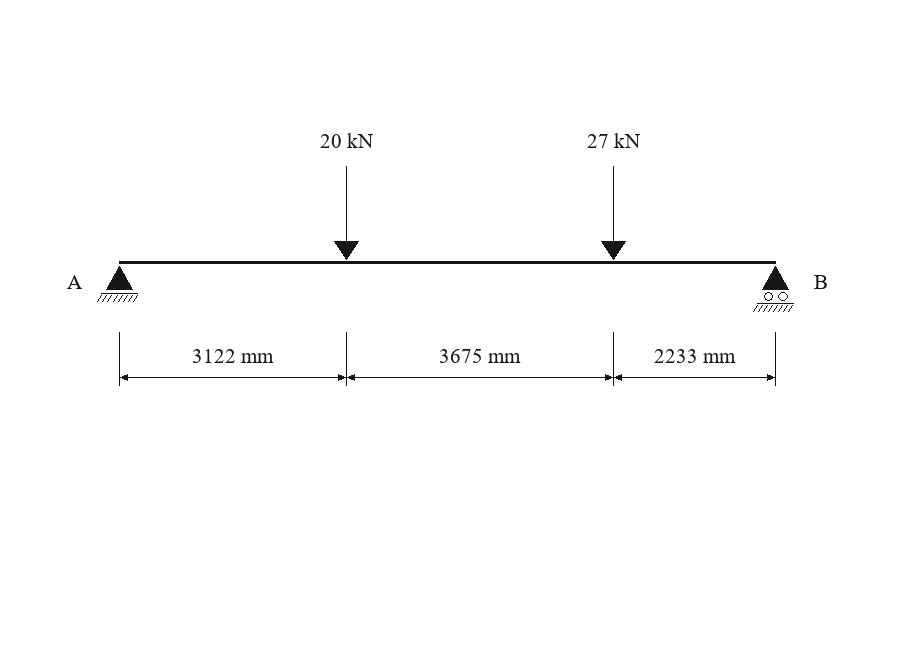pin_support: (97, 266, 138, 302)
point_load: (334, 166, 359, 260), (601, 166, 626, 260)
roller_support: (753, 266, 794, 312)
